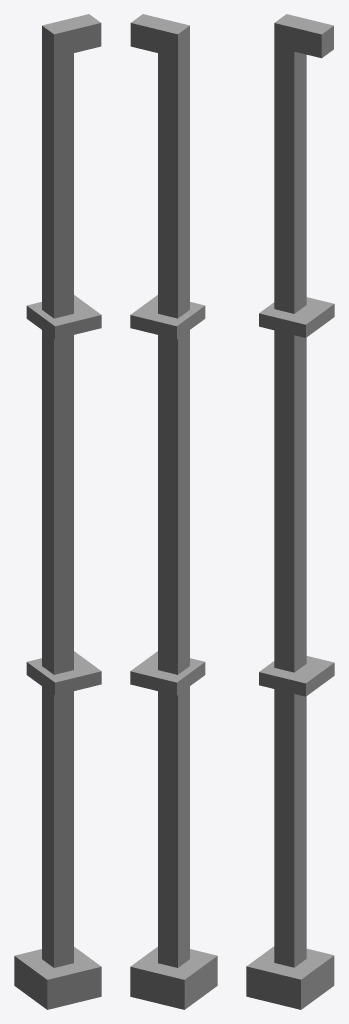
File: pipe_mesh.fbx
3 renders of one model, left to right at view 1: azimuth 30°, elevation 25°; view 2: azimuth 150°, elevation 25°; view 3: azimuth 330°, elevation 25°, orthographic.
Parts seen in each view (by area): view 1: pipe_mesh; view 2: pipe_mesh; view 3: pipe_mesh.
Boxes of the visible parts, x1,y1,x2,y2 form: pipe_mesh: [14, 14, 101, 1009]; pipe_mesh: [130, 14, 217, 1009]; pipe_mesh: [246, 14, 334, 1009].
Bounding box in the file's own units: 0.6793 × 9.72 × 0.6053.
